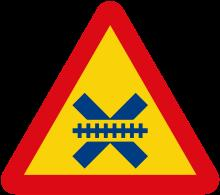Barrier Ahead: (11, 11, 207, 190)
